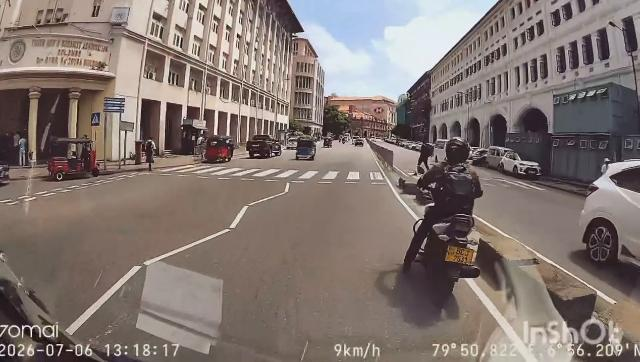number plate: (447, 243, 477, 267)
